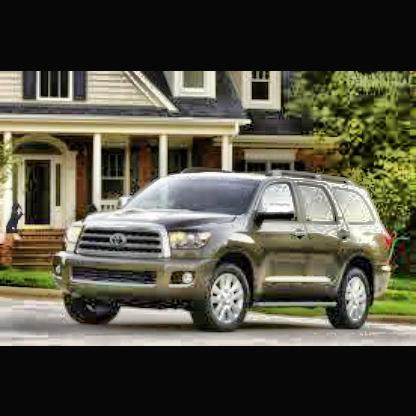Toyota Sequoia SUV 2012: (55, 165, 403, 336)
